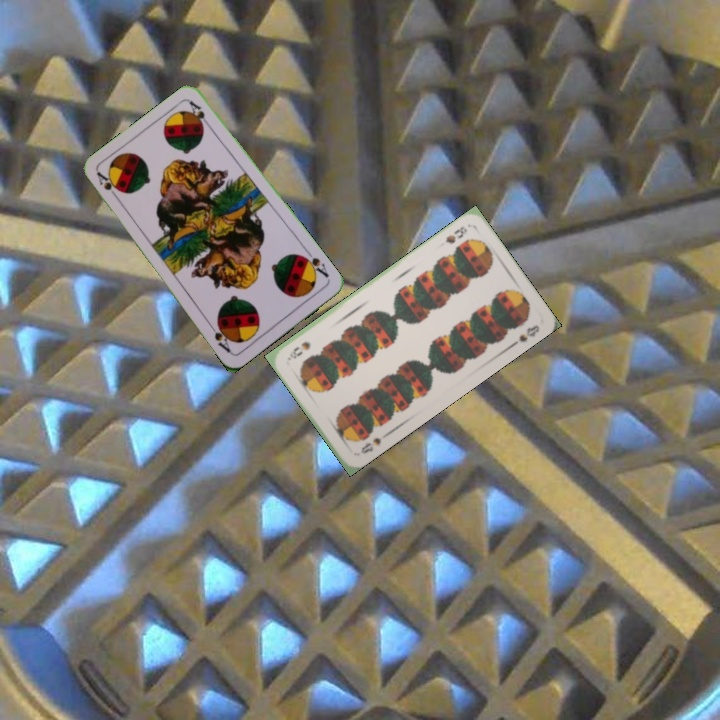S8: (441, 222, 470, 246), (357, 433, 384, 456)
SA: (297, 247, 332, 281), (93, 168, 122, 203)
